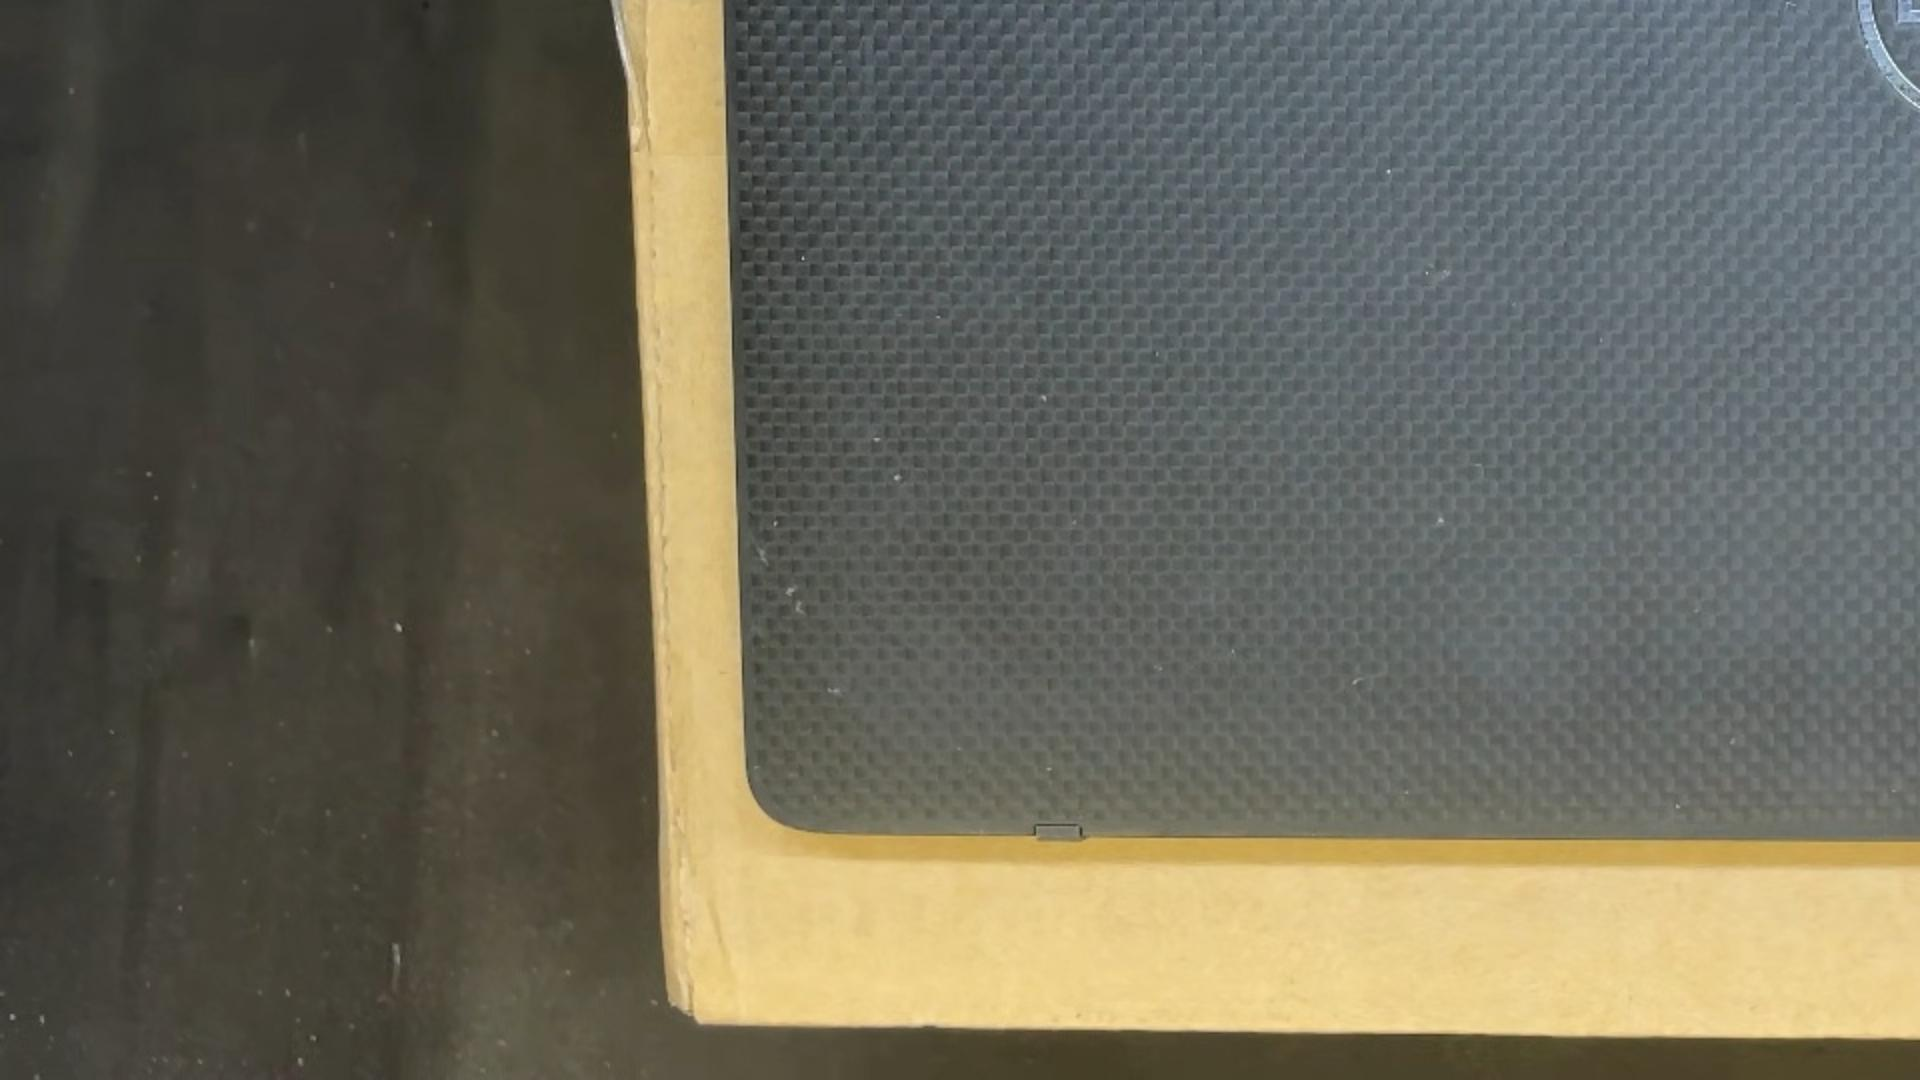chip: (824, 683, 845, 695), (795, 600, 807, 618), (783, 587, 798, 596), (1435, 516, 1447, 526), (1039, 393, 1048, 405), (770, 520, 781, 529), (893, 473, 903, 483), (873, 435, 882, 444), (1383, 166, 1393, 175), (934, 313, 943, 320), (799, 255, 807, 262)
scratches: (1350, 667, 1391, 688), (757, 547, 770, 567), (1783, 0, 1797, 13)
